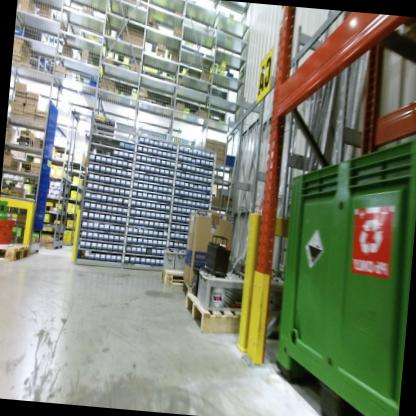pallet: (183, 283, 285, 347), (156, 261, 200, 290), (0, 237, 35, 269)
small_load_carrier: (0, 212, 18, 250)
